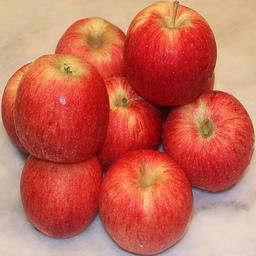apple: (13, 53, 108, 160), (124, 1, 218, 109), (99, 150, 194, 255), (163, 90, 255, 192), (20, 152, 102, 238), (95, 73, 161, 165), (54, 17, 127, 78)
